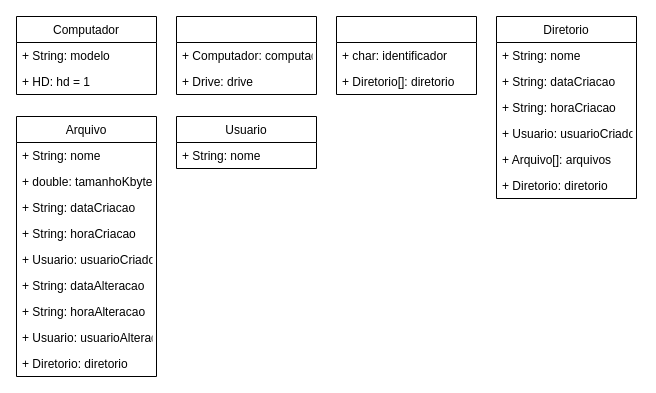
The diagram is 656 pixels wide and 393 high, and some of its shapes have lost their labels. The box of each missing label's shape, as (x1, y1, x2, y2) in pixels:
Drive: (336, 16, 476, 94)
HD: (176, 16, 316, 94)
